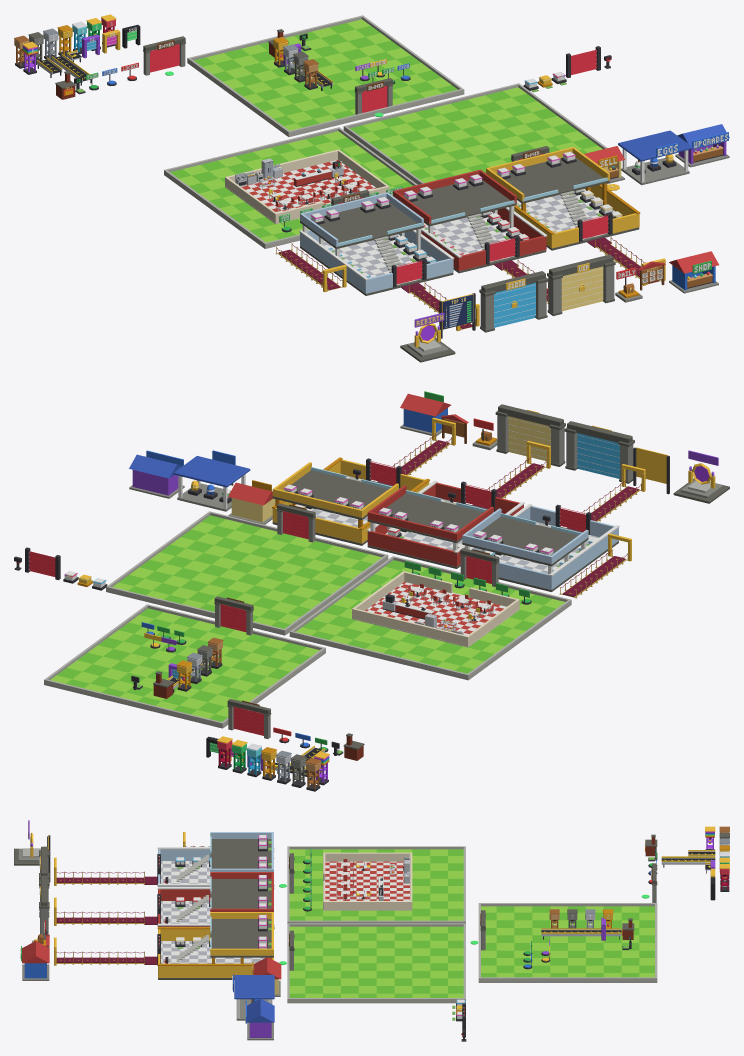
Rendered from Tycoon.fbx.
The picture shows the model from 3 angles, top to bottom: view 1: azimuth 30°, elevation 25°; view 2: azimuth 150°, elevation 25°; view 3: azimuth 270°, elevation 25°; orthographic projection. The views are drawn at different scales.
Parts seen in each view (by area): view 1: DropperTycoonPlot, TycoonPlot, RestaurantTycoonPlot, StealBase, StealBase_Floor2, GoldStealBase, RedStealBase_Floor2, GoldStealBase_Floor2, RedStealBase, EggHatchery, VIPZoneGate, ZoneGate (+14 smaller); view 2: TycoonPlot, RestaurantTycoonPlot, DropperTycoonPlot, StealBase, RedStealBase, StealBase_Floor2, RedStealBase_Floor2, GoldStealBase_Floor2, GoldStealBase, EggHatchery, UpgradeShop, VIPZoneGate (+13 smaller); view 3: TycoonPlot, DropperTycoonPlot, RestaurantTycoonPlot, GoldStealBase, GoldStealBase_Floor2, RedStealBase_Floor2, StealBase_Floor2, RedStealBase, StealBase, EggHatchery, UpgradeShop, ShopStand (+8 smaller).
Part boxes in pixels (x1,y1,x2,y2): DropperTycoonPlot: (187,15,464,136); TycoonPlot: (343,83,607,184); RestaurantTycoonPlot: (164,127,417,248); StealBase: (299,229,479,331); StealBase_Floor2: (300,192,423,272); GoldStealBase: (514,184,665,285); RedStealBase_Floor2: (393,169,516,250); GoldStealBase_Floor2: (486,147,609,227); RedStealBase: (421,207,548,303); EggHatchery: (618,130,692,185); VIPZoneGate: (547,254,615,315); ZoneGate: (479,271,548,332); TycoonPlot: (106,503,388,635); RestaurantTycoonPlot: (289,548,571,680); DropperTycoonPlot: (44,596,325,728); StealBase: (470,464,645,591); RedStealBase: (367,440,550,568); StealBase_Floor2: (462,508,588,574); RedStealBase_Floor2: (367,485,493,550); GoldStealBase_Floor2: (272,462,398,527); GoldStealBase: (272,417,455,545); EggHatchery: (173,450,250,511); UpgradeShop: (129,450,184,498); VIPZoneGate: (495,404,565,466); TycoonPlot: (279,923,465,1003); DropperTycoonPlot: (470,903,657,982); RestaurantTycoonPlot: (279,846,465,923); GoldStealBase: (54,927,274,979); GoldStealBase_Floor2: (176,912,273,963); RedStealBase_Floor2: (176,872,273,921); StealBase_Floor2: (176,832,273,881); RedStealBase: (54,887,274,926); StealBase: (54,847,274,886); EggHatchery: (232,974,274,1020); UpgradeShop: (245,998,274,1040); ShopStand: (20,941,49,980).
Bounding box in the file's own units: 203 × 19.1 × 321.
Materials: 1 (1 with a texture image).
